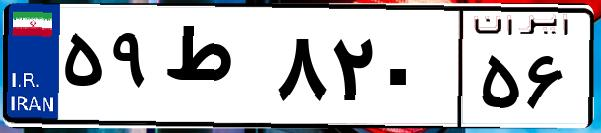0: (385, 28, 445, 110)
2: (330, 28, 385, 110)
5: (57, 26, 110, 100), (475, 38, 525, 113)
6: (525, 38, 570, 115)
8: (270, 28, 330, 110)
9: (110, 28, 158, 98)
ط: (158, 20, 270, 120)
